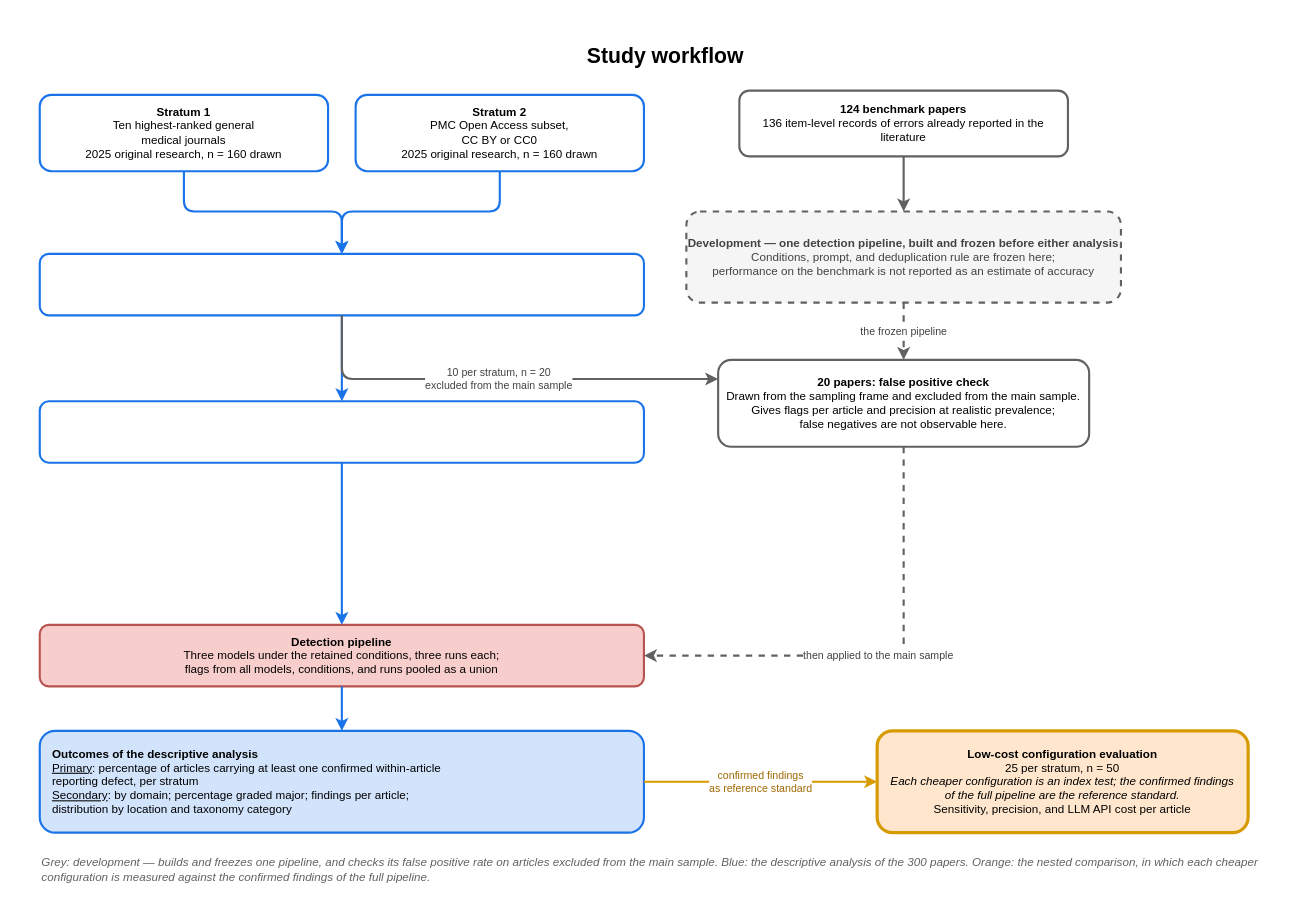
The diagram is 1308 pixels wide and 909 high, and some of its shapes have lost their labels. The centre of each missing label's shape, as x and y in pixels:
"300 papers Main sample, 150 per stratum" goes at point (341, 431).
"320 papers" goes at point (341, 284).
